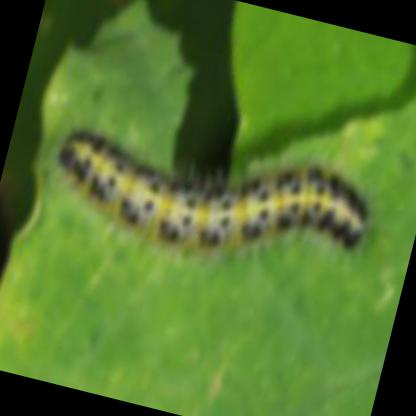pieris: (60, 137, 364, 257)
